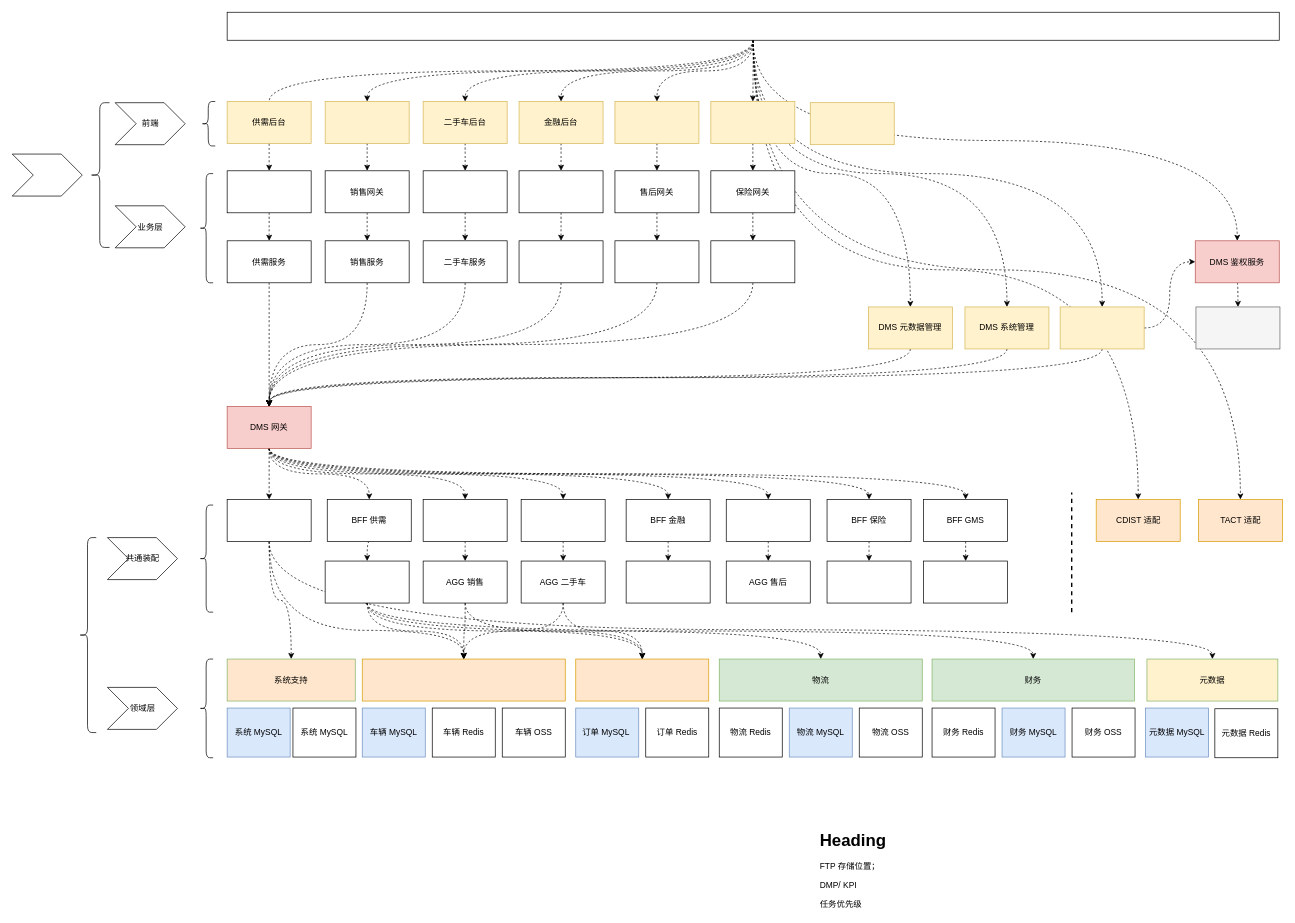
This 1295x923 diagram has some shape labels left out. Each missing label, with the box of its shape:
AGG GMS: (923, 560, 1008, 603)
AGG 供需: (324, 560, 409, 603)
AGG 保险: (826, 560, 911, 603)
AGG 金融: (625, 560, 710, 603)
BFF DMS 后台: (226, 499, 311, 541)
BFF 二手车: (520, 499, 605, 541)
BFF 售后: (726, 499, 810, 541)
BFF 销售: (422, 499, 507, 541)
DMS 共通鉴权: (1059, 306, 1144, 349)
GMS: (810, 102, 894, 145)
IDM-SSO: (1195, 306, 1280, 349)
NGINX: (226, 12, 1279, 40)
二手车网关: (422, 170, 507, 213)
供需网关: (226, 170, 311, 213)
保险后台: (710, 101, 795, 144)
保险服务: (710, 240, 795, 283)
售后后台: (614, 101, 699, 144)
售后服务: (614, 240, 699, 283)
订单领域: (575, 658, 709, 701)
车辆领域: (362, 658, 565, 701)
金融服务: (518, 240, 603, 283)
金融网关: (518, 170, 603, 213)
销售后台: (324, 101, 409, 144)
